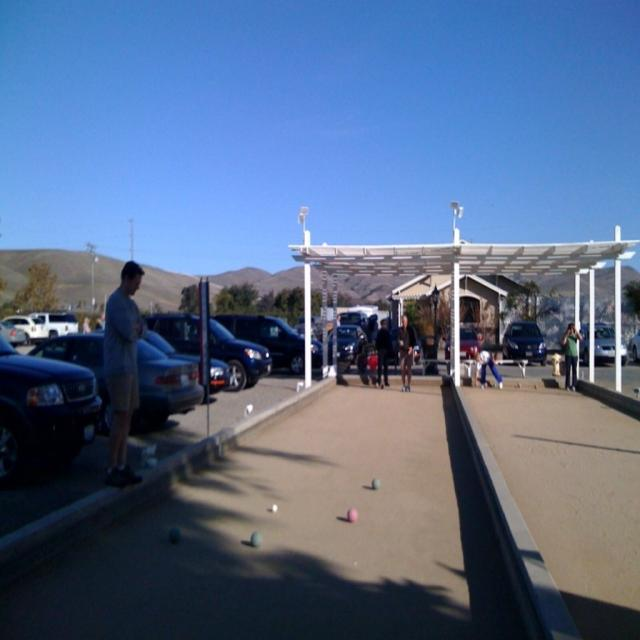car: (501, 319, 546, 360)
